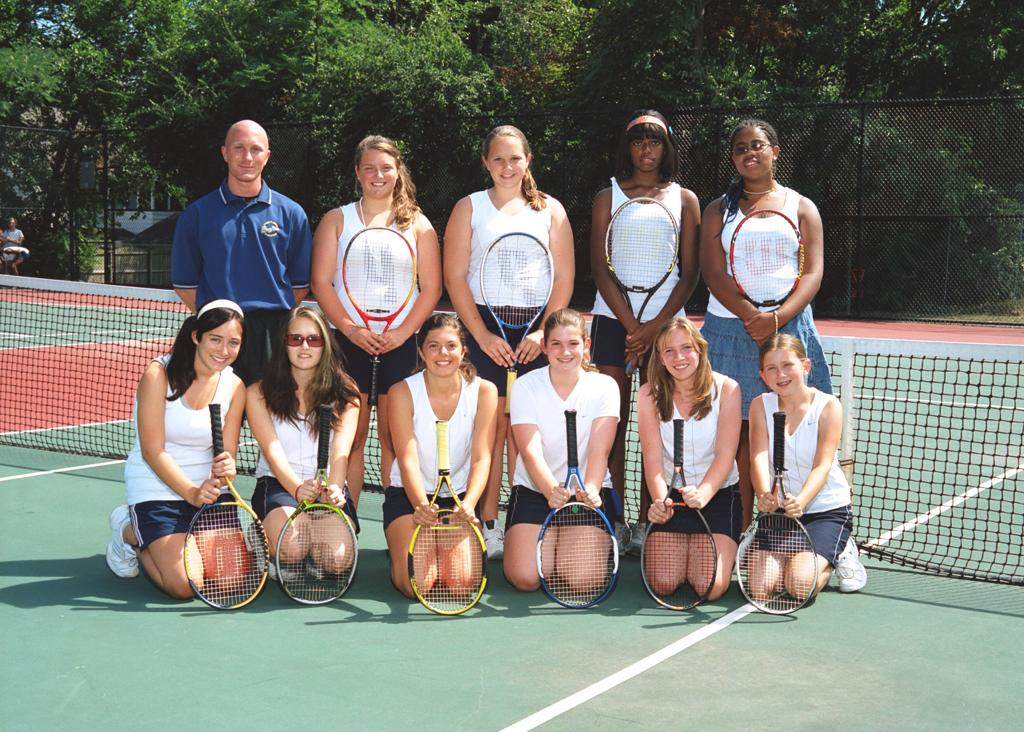face: (199, 318, 241, 371), (733, 127, 772, 178), (488, 136, 526, 188), (287, 317, 323, 369), (661, 331, 699, 379), (227, 132, 264, 181), (359, 150, 397, 197), (424, 327, 461, 375), (764, 350, 803, 394), (547, 326, 583, 369), (630, 127, 663, 171)
